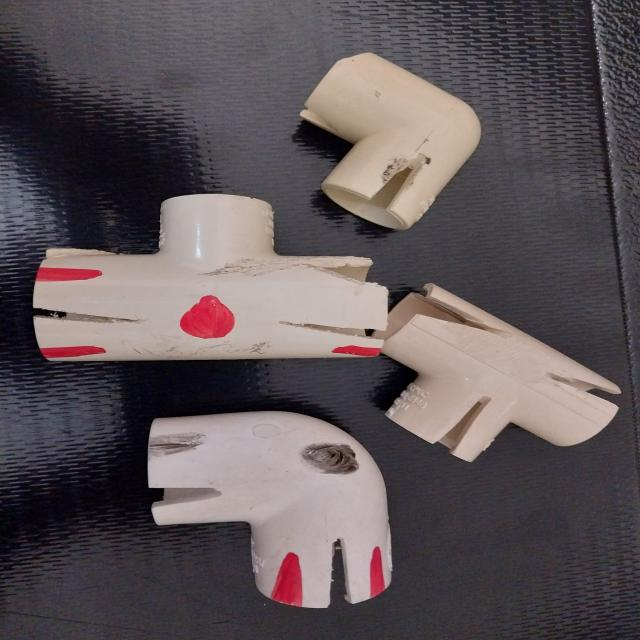Defective: (122, 239, 340, 307), (281, 270, 387, 316), (541, 370, 622, 417), (418, 286, 488, 338), (272, 311, 386, 341), (32, 303, 142, 331), (147, 476, 233, 511), (448, 400, 496, 455), (195, 252, 266, 286), (302, 259, 381, 288), (182, 298, 235, 338), (327, 540, 354, 609), (300, 446, 356, 473), (276, 556, 302, 606), (44, 264, 104, 282), (368, 550, 386, 600), (48, 348, 102, 362), (150, 441, 197, 455)
L Joint: (148, 410, 390, 606), (296, 52, 482, 237)
T Joint: (29, 192, 383, 362), (380, 274, 620, 462)
